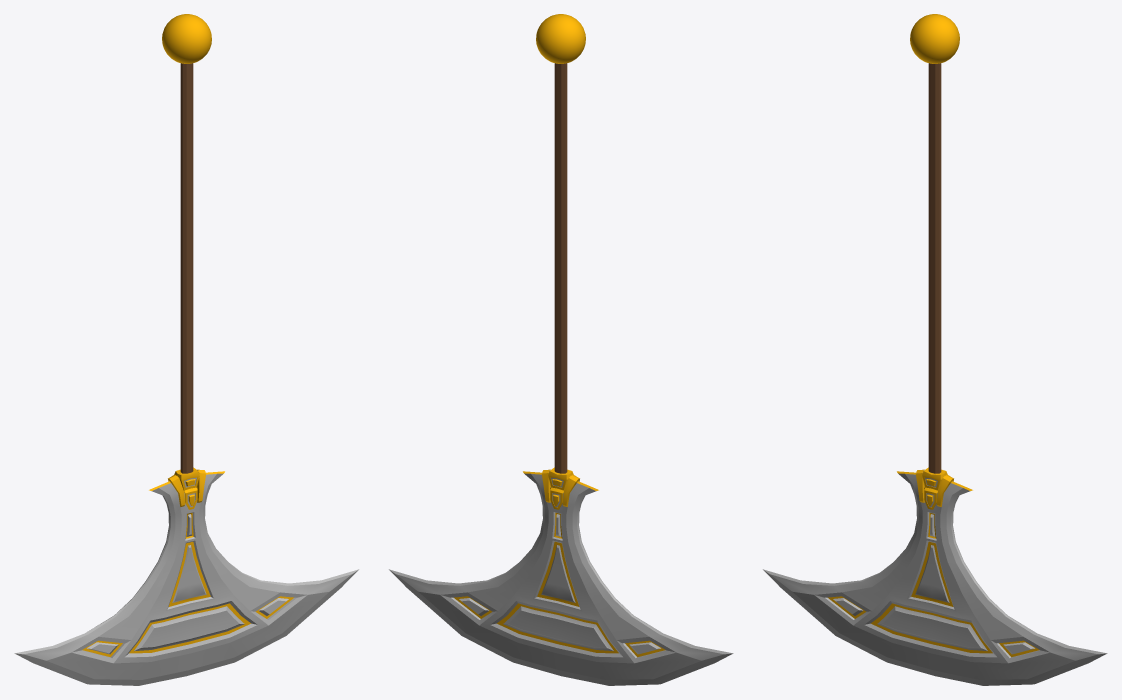
3 renders of one model, left to right at view 1: azimuth 30°, elevation 25°; view 2: azimuth 150°, elevation 25°; view 3: azimuth 330°, elevation 25°, orthographic.
Parts seen in each view (by area): view 1: Giyotin; view 2: Giyotin; view 3: Giyotin.
Part boxes in pixels (bbox=[...]): Giyotin: bbox=[14, 14, 358, 685]; Giyotin: bbox=[389, 14, 733, 685]; Giyotin: bbox=[763, 14, 1107, 685].
Size of what is drawn, in the model's own units: 15.91 by 29.05 by 2.
